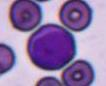L: (26, 24, 77, 70)
